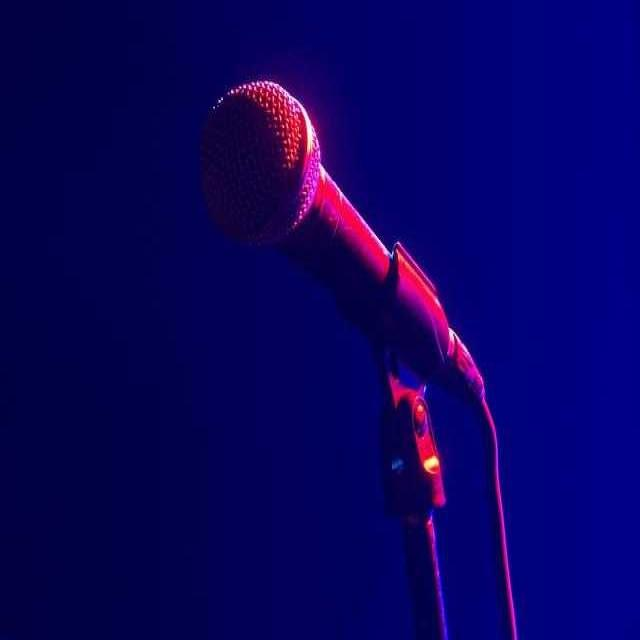microphone: (190, 68, 471, 385)
